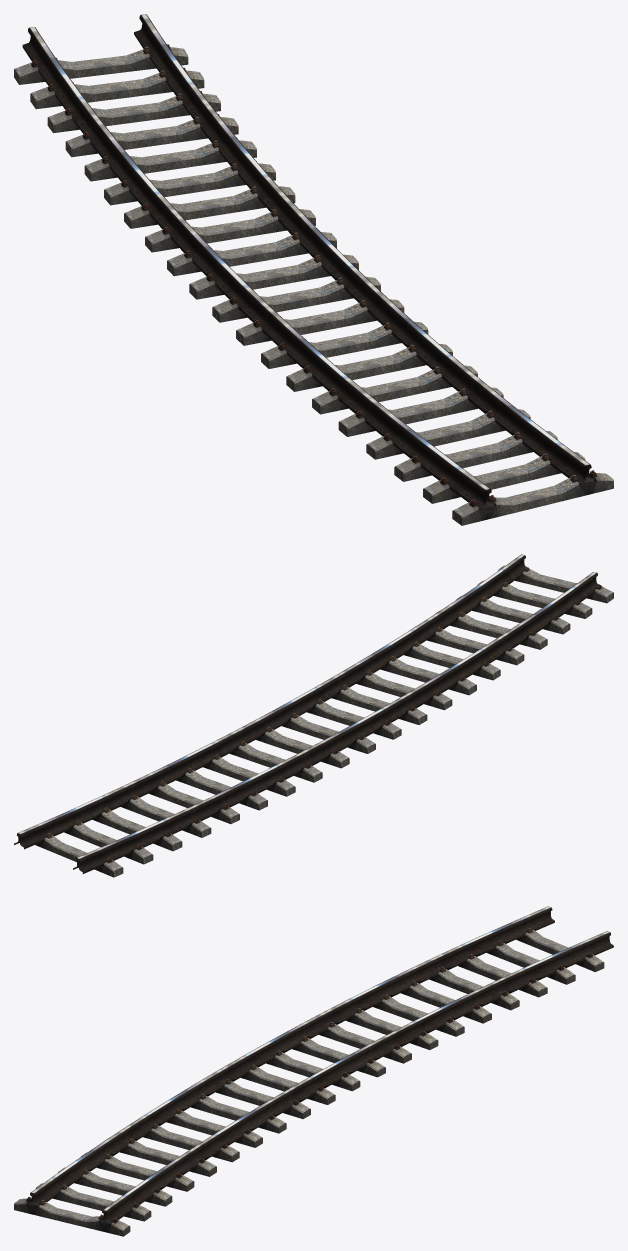
The model's file is Beton_rail_-15.FBX.
The picture shows the model from 3 angles, top to bottom: view 1: azimuth 30°, elevation 25°; view 2: azimuth 150°, elevation 25°; view 3: azimuth 330°, elevation 25°; orthographic projection. The views are drawn at different scales.
Visible parts, largest first — view 1: Beton_rail_-15_LOD0; view 2: Beton_rail_-15_LOD0; view 3: Beton_rail_-15_LOD0.
Part boxes in pixels (bbox=[...]): Beton_rail_-15_LOD0: bbox=[14, 14, 613, 525]; Beton_rail_-15_LOD0: bbox=[14, 554, 613, 877]; Beton_rail_-15_LOD0: bbox=[14, 906, 613, 1236].
Size of what is drawn, in the model's own units: 4.49 by 16.9 by 0.4774.
